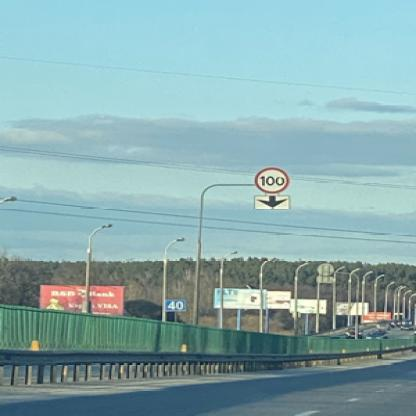speedlimit: (252, 166, 287, 192)
